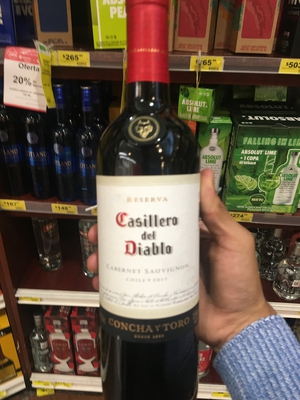casillero del diablo cabernet sauvignon: (86, 8, 206, 400)
